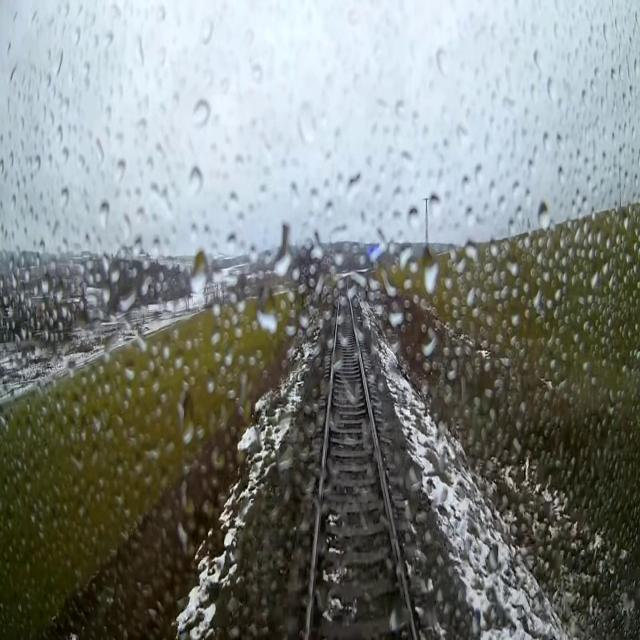rail-track: (309, 277, 413, 639)
